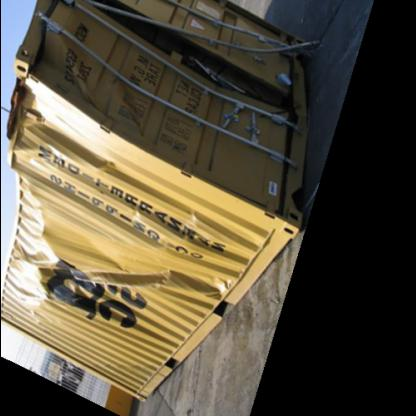Damage: (92, 10, 289, 114), (15, 217, 209, 311)
